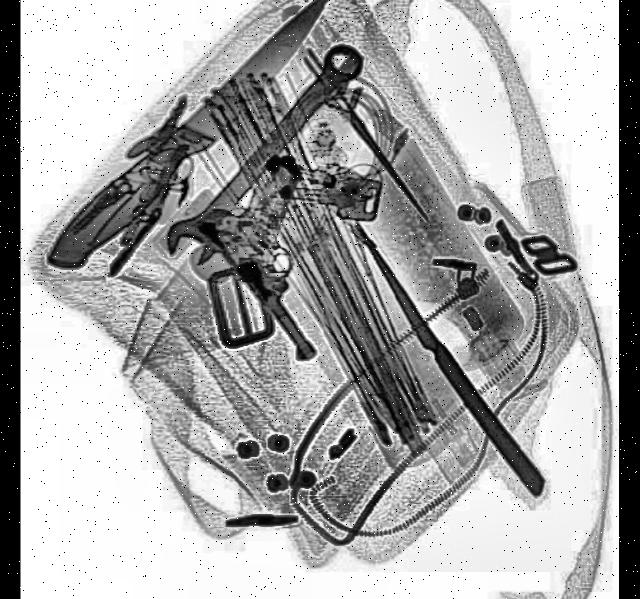Gun: (193, 136, 386, 366)
Knife: (37, 0, 336, 289), (347, 222, 548, 503), (300, 46, 429, 222)
Wrench: (157, 28, 370, 278)
